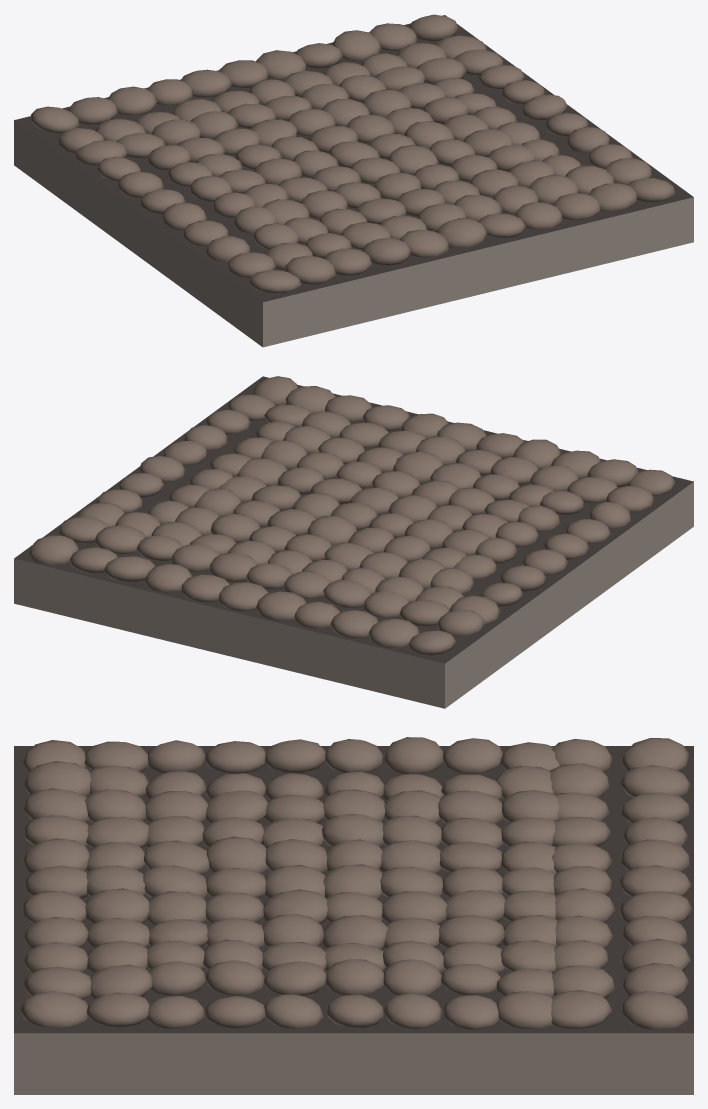
The model's file is 27-cobble-end.glb.
The picture shows the model from 3 angles, top to bottom: view 1: azimuth 30°, elevation 25°; view 2: azimuth 150°, elevation 25°; view 3: azimuth 270°, elevation 25°; orthographic projection. The views are drawn at different scales.
Visible parts, largest first — view 1: Slab, StoneProto.056, StoneProto.012, StoneProto.099, StoneProto.033, StoneProto.022, StoneProto.055, StoneProto.034, StoneProto.100, StoneProto.045, StoneProto.078, StoneProto.077 (+108 smaller); view 2: Slab, StoneProto.121, StoneProto.022, StoneProto.055, StoneProto.109, StoneProto.066, StoneProto.043, StoneProto.076, StoneProto.033, StoneProto.088, StoneProto.099, StoneProto.010 (+110 smaller); view 3: Slab, StoneProto.121, StoneProto.111, StoneProto.120, StoneProto.119, StoneProto.007, StoneProto.068, StoneProto.105, StoneProto.112, StoneProto.048, StoneProto.104, StoneProto.106 (+110 smaller).
Boxes of the visible parts, x1,y1,x2,y2 form: Slab: (14,15,693,347); StoneProto.056: (437,218,487,247); StoneProto.012: (285,255,335,284); StoneProto.099: (332,30,381,60); StoneProto.033: (108,86,157,114); StoneProto.022: (68,97,117,124); StoneProto.055: (181,69,231,97); StoneProto.034: (362,238,411,265); StoneProto.100: (588,183,636,211); StoneProto.045: (400,229,448,257); StoneProto.078: (515,202,562,229); StoneProto.077: (256,50,306,79); Slab: (14,376,693,708); StoneProto.121: (28,535,78,564); StoneProto.022: (368,618,419,647); StoneProto.055: (255,591,306,620); StoneProto.109: (94,525,145,553); StoneProto.066: (218,582,268,610); StoneProto.043: (323,580,371,607); StoneProto.076: (209,553,257,581); StoneProto.033: (330,610,378,638); StoneProto.088: (144,563,192,592); StoneProto.099: (104,556,155,581); StoneProto.010: (437,609,484,636); Slab: (14,746,693,1094); StoneProto.121: (622,991,688,1029); StoneProto.111: (20,991,88,1027); StoneProto.120: (551,990,612,1028); StoneProto.119: (496,991,552,1028); StoneProto.007: (384,737,443,774); StoneProto.068: (85,888,149,923); StoneProto.105: (325,959,383,995); StoneProto.112: (86,992,149,1027); StoneProto.048: (206,836,268,873); StoneProto.104: (264,961,326,995); StoneProto.106: (383,959,441,994).
Size of the model in its own units: 3 by 0.4005 by 3.
